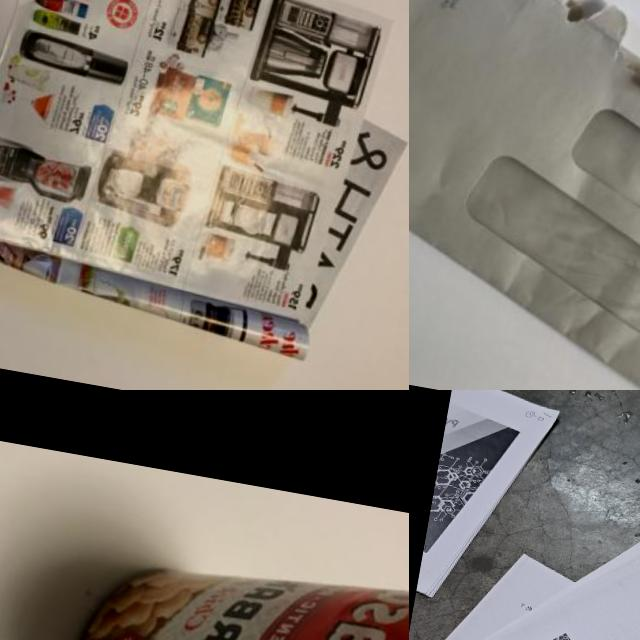lata: (41, 526, 409, 640)
papel: (0, 0, 409, 363), (409, 0, 640, 390), (409, 484, 640, 640), (415, 390, 564, 613)
